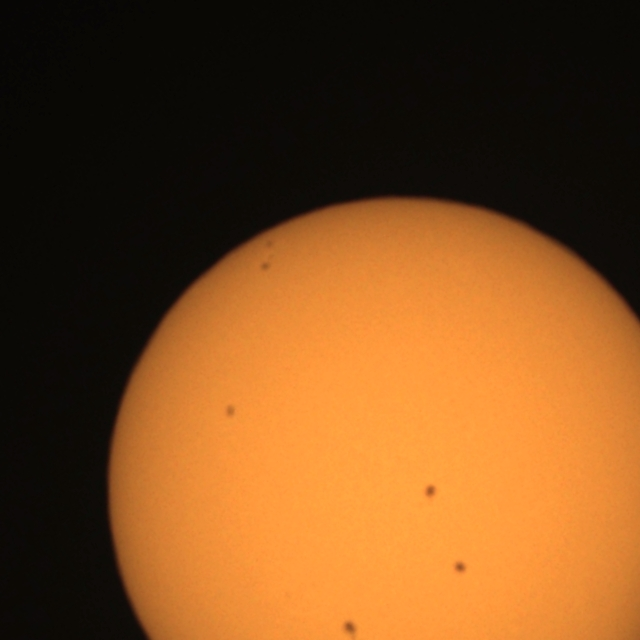sunspot: (257, 242, 277, 275), (340, 618, 360, 639), (422, 482, 439, 500), (452, 559, 469, 576), (223, 402, 238, 421), (258, 259, 273, 274)
